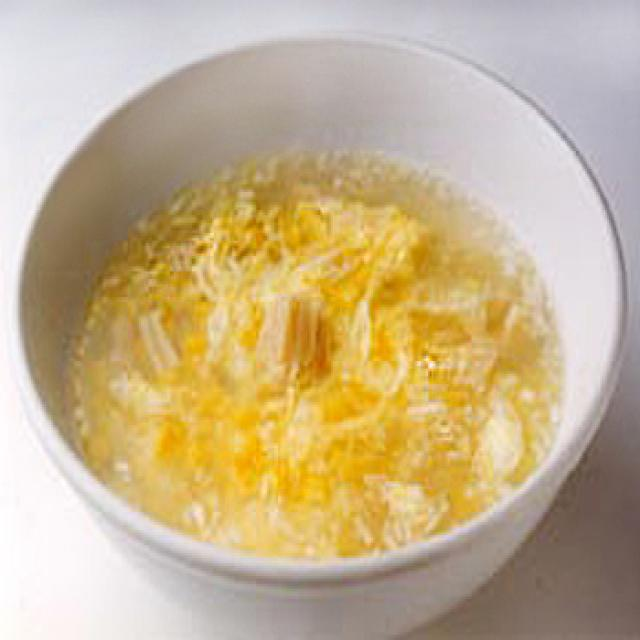汤锅炖物: (3, 30, 627, 640)
